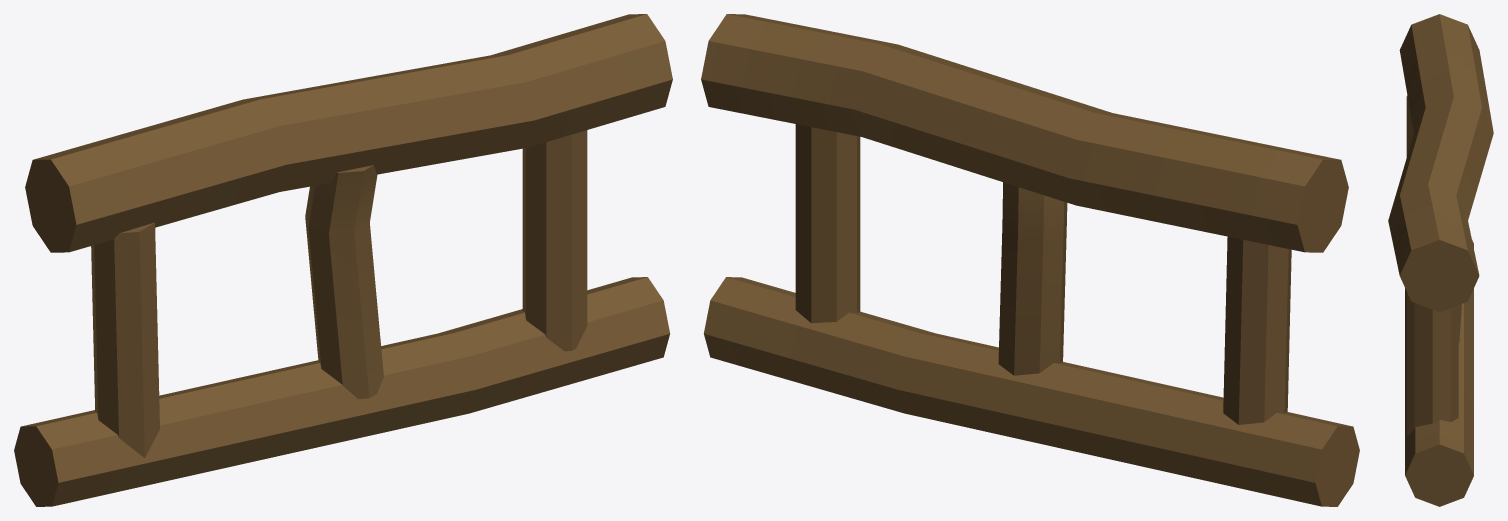
The model's file is wall_deco_01.fbx.
3 renders of one model, left to right at view 1: azimuth 30°, elevation 25°; view 2: azimuth 150°, elevation 25°; view 3: azimuth 270°, elevation 25°, orthographic. The views are drawn at different scales.
Visible parts, largest first — view 1: pCylinder8; view 2: pCylinder8; view 3: pCylinder8.
Boxes of the visible parts, box(x1,y1,x2,y2) form: pCylinder8: box(14, 14, 672, 506); pCylinder8: box(701, 14, 1359, 506); pCylinder8: box(1388, 14, 1493, 506).
Size of the model in its own units: 105 by 20.16 by 57.63.
